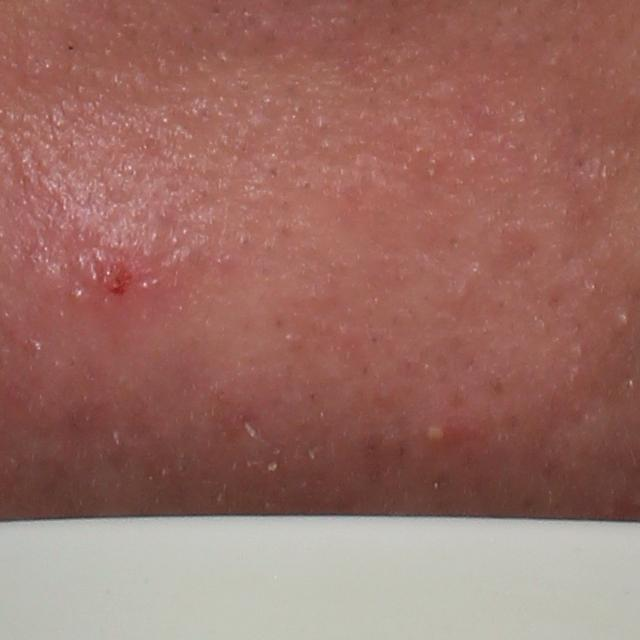comedo: (618, 311, 633, 327)
pustule: (419, 415, 458, 450)
